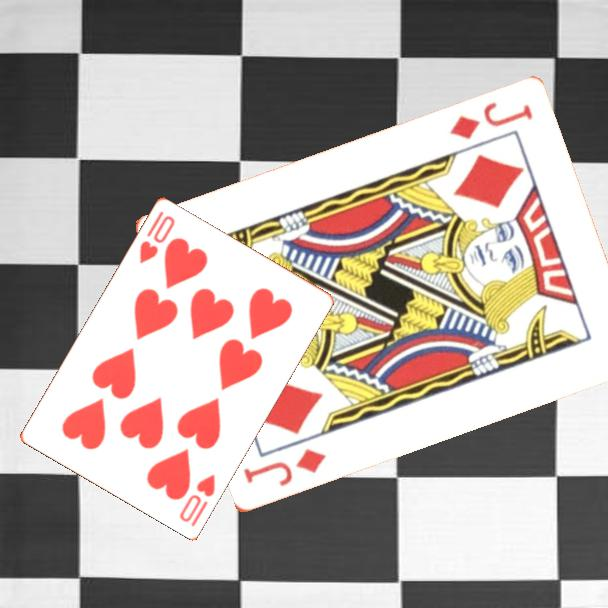d11: (239, 445, 329, 490), (446, 99, 535, 143)
h10: (136, 207, 178, 266), (176, 470, 218, 529)
